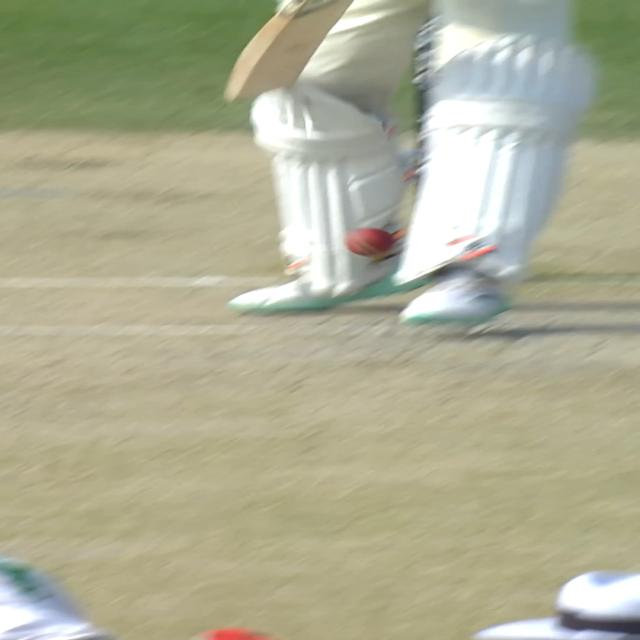Cricket ball: (344, 226, 398, 258)
